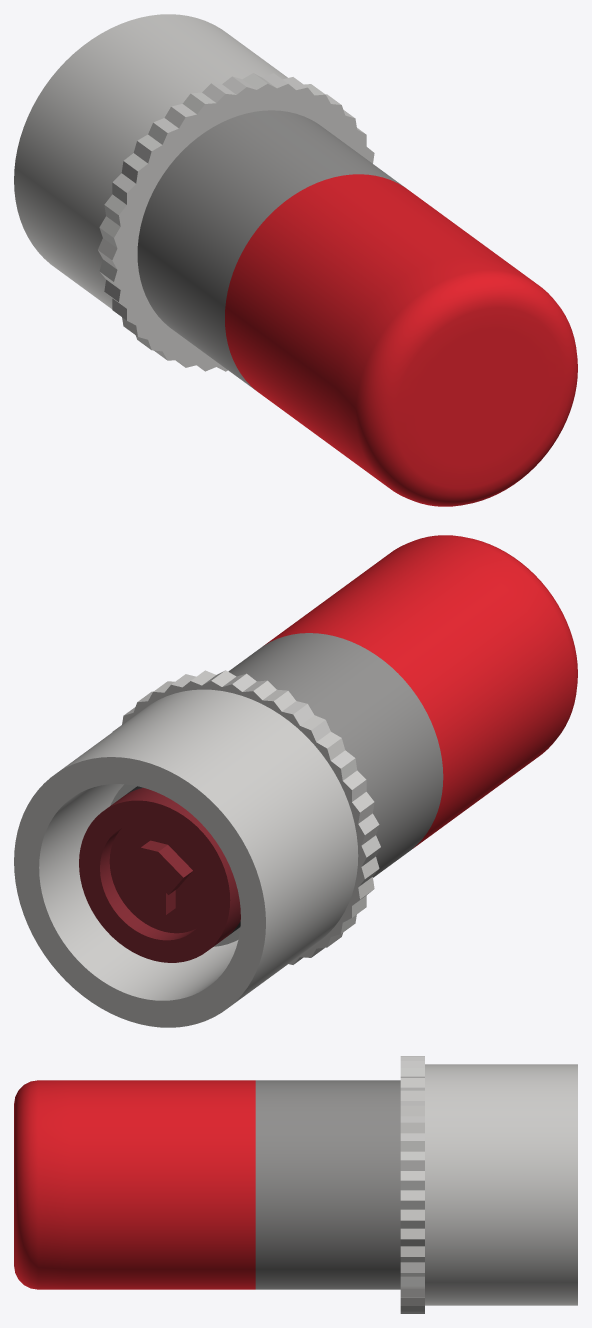
3 renders of one model, top to bottom at view 1: azimuth 30°, elevation 25°; view 2: azimuth 150°, elevation 25°; view 3: azimuth 270°, elevation 25°, orthographic. The views are drawn at different scales.
Visible parts, largest first — view 1: retractable_stamp; view 2: retractable_stamp; view 3: retractable_stamp.
Part boxes in pixels (bbox=[...]): retractable_stamp: bbox=[14, 14, 577, 506]; retractable_stamp: bbox=[14, 535, 577, 1027]; retractable_stamp: bbox=[14, 1056, 577, 1313].
Bounding box in the file's own units: 0.032 × 0.032 × 0.07.
Materials: 1 (1 with a texture image).
